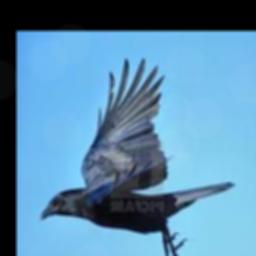Crow: (39, 57, 234, 256)
